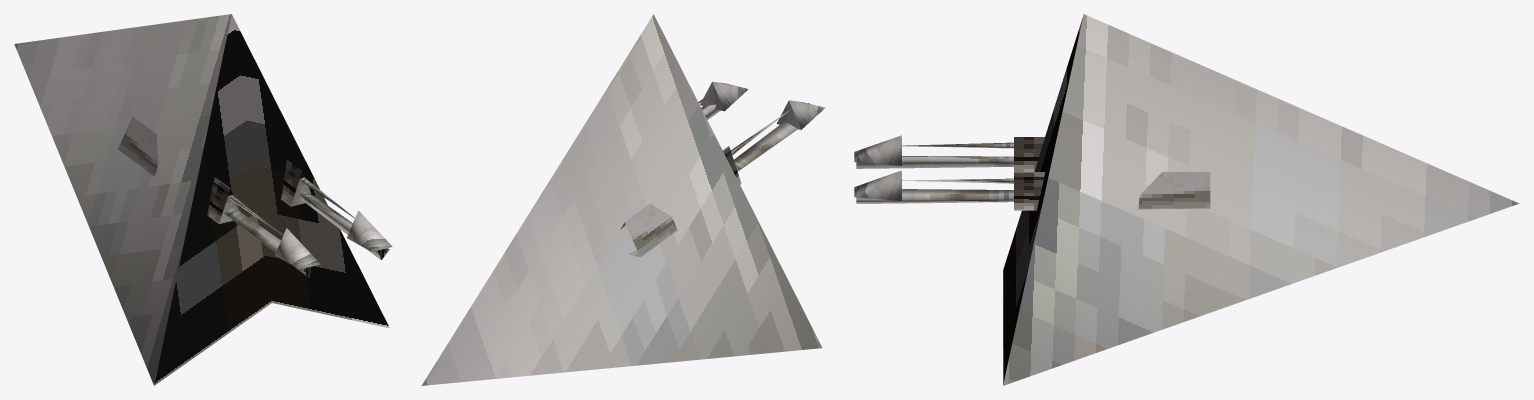
File: hutt_fighter_heavy_weapon3_s06_l3.fbx
3 renders of one model, left to right at view 1: azimuth 30°, elevation 25°; view 2: azimuth 150°, elevation 25°; view 3: azimuth 270°, elevation 25°, orthographic. The views are drawn at different scales.
Parts seen in each view (by area): view 1: mesh_node; view 2: mesh_node; view 3: mesh_node.
Part boxes in pixels (x1,y1,x2,y2): mesh_node: (14, 14, 392, 385); mesh_node: (421, 14, 825, 385); mesh_node: (854, 14, 1519, 385).
Size of the model in its own units: 1 by 1.27 by 2.44.
Materials: 1 (1 with a texture image).
